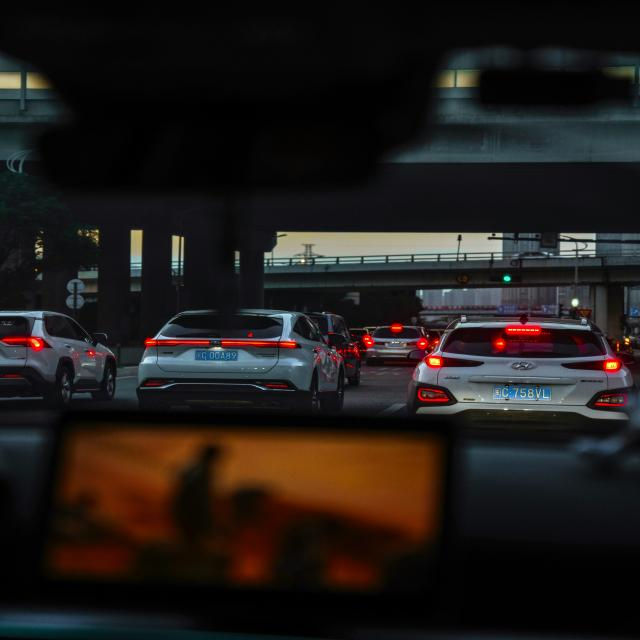Car: (406, 314, 636, 423), (136, 308, 346, 413), (0, 310, 117, 406), (302, 311, 362, 385), (365, 325, 430, 365)
